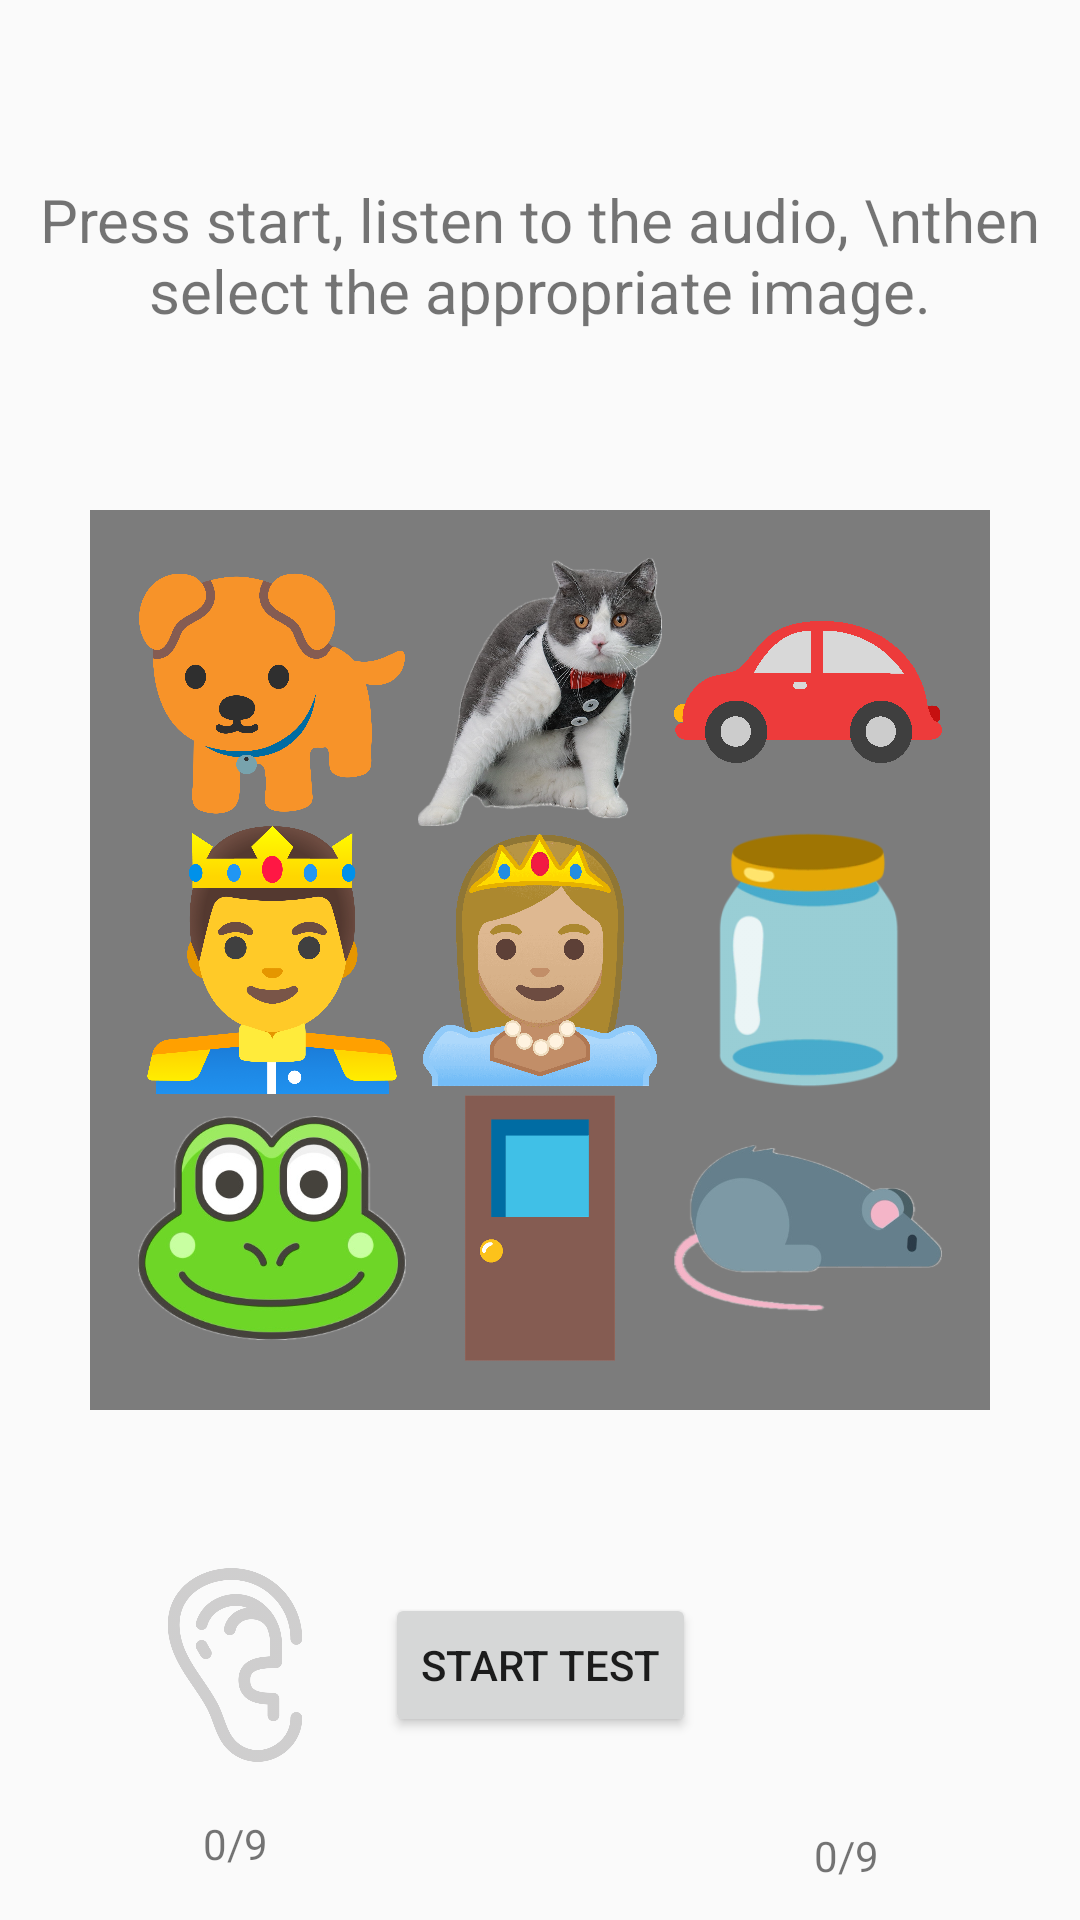

Point at icon controls on the screen. Image size 1080 × 1920, points as point (x, y).
car: point (808, 692)
cat: point (540, 692)
dog: point (272, 694)
door: point (540, 1228)
frog: point (272, 1228)
jar: point (809, 960)
king: point (272, 960)
queen: point (540, 960)
rat: point (808, 1228)
